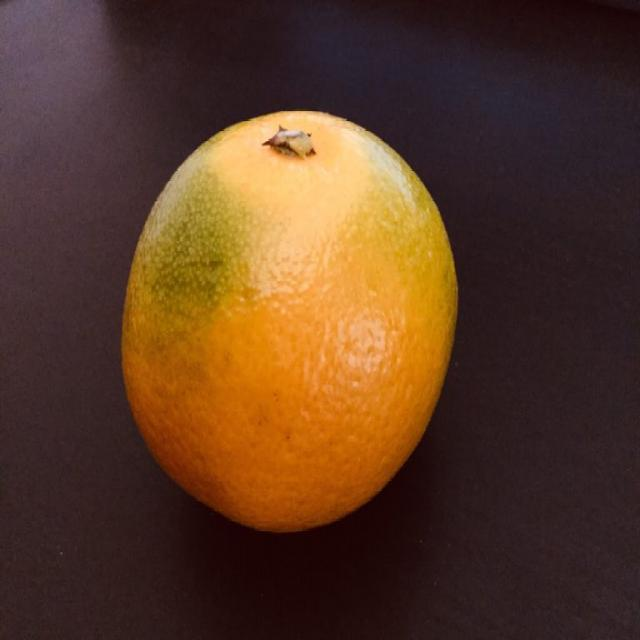Orange: (114, 104, 461, 536)
